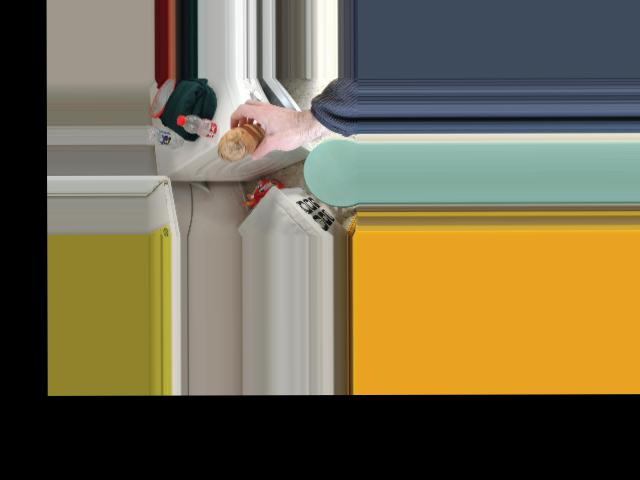sweet_potato: (217, 121, 266, 161)
